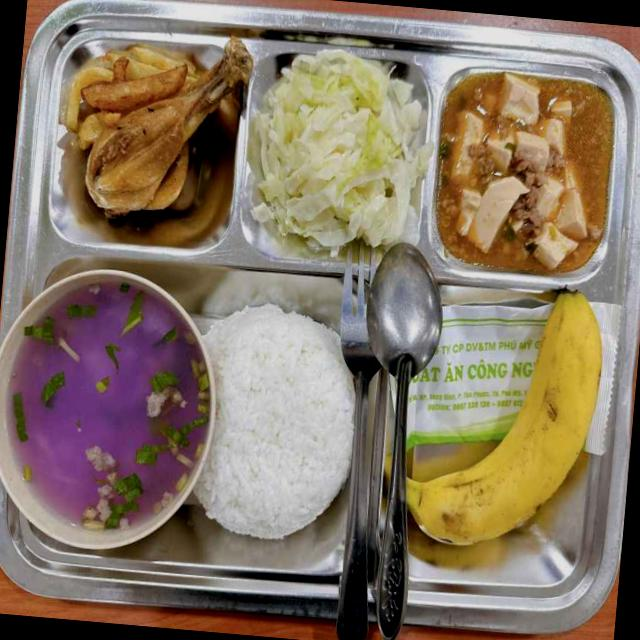bap cai xao: (252, 50, 432, 252)
chuoi: (407, 292, 601, 545)
com: (0, 271, 216, 548), (193, 303, 353, 538)
dau hu: (436, 73, 611, 273)
ga kho: (85, 38, 252, 216)
